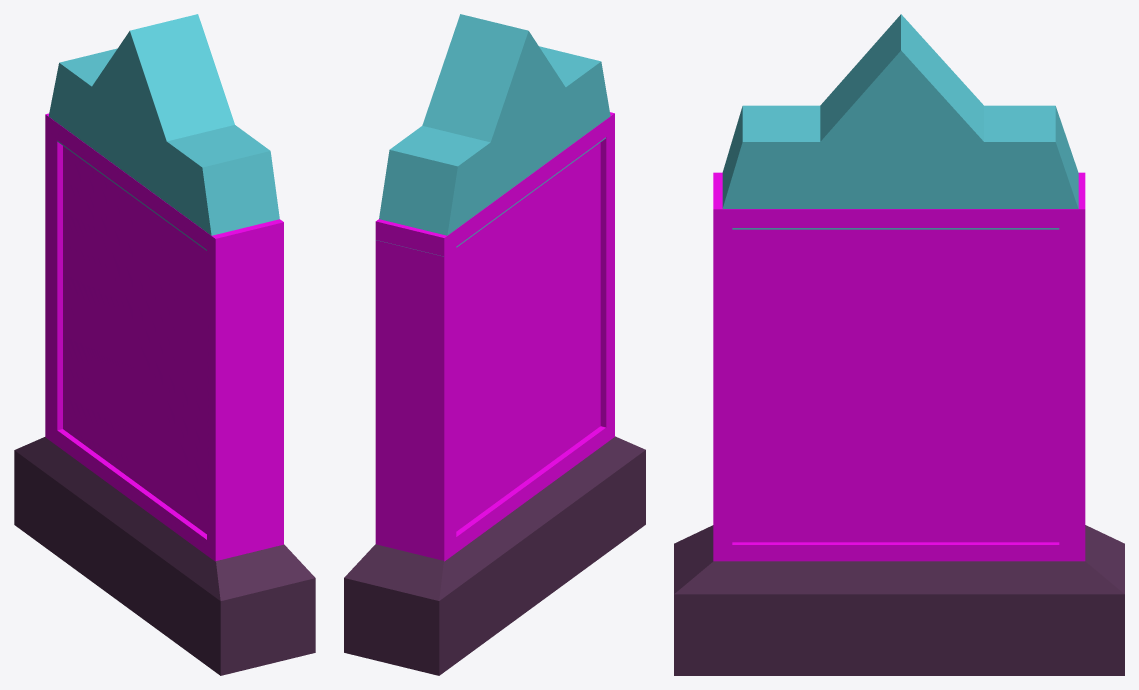
File: Lapida_2.fbx
The picture shows the model from 3 angles, left to right: view 1: azimuth 30°, elevation 25°; view 2: azimuth 150°, elevation 25°; view 3: azimuth 270°, elevation 25°; orthographic projection. The views are drawn at different scales.
Parts seen in each view (by area): view 1: pCube6, pCube5, tumba_tradicional; view 2: pCube6, pCube5, tumba_tradicional; view 3: pCube6, pCube5, tumba_tradicional.
Boxes of the visible parts, x1,y1,x2,y2 form: pCube6: (45,113,283,561); pCube5: (14,437,315,675); tumba_tradicional: (48,14,279,250); pCube6: (375,112,614,561); pCube5: (344,436,645,675); tumba_tradicional: (376,14,610,256); pCube6: (713,172,1085,561); pCube5: (674,525,1124,675); tumba_tradicional: (722,14,1078,229).
Size of the model in its own units: 0.7254 by 4.13 by 2.73.
